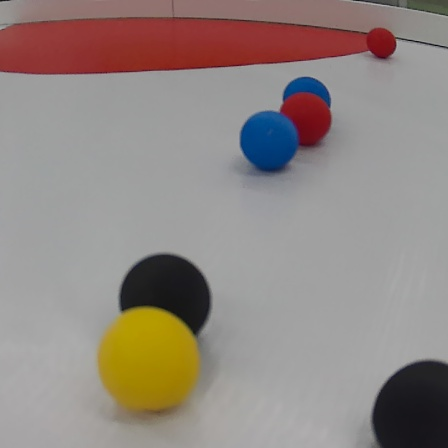black: (118, 249, 212, 335), (370, 359, 448, 448)
blue: (238, 104, 302, 175), (283, 76, 339, 113)
red: (283, 91, 335, 144), (363, 28, 397, 60)
red_base: (2, 14, 397, 70)
yellow: (95, 306, 203, 415)
